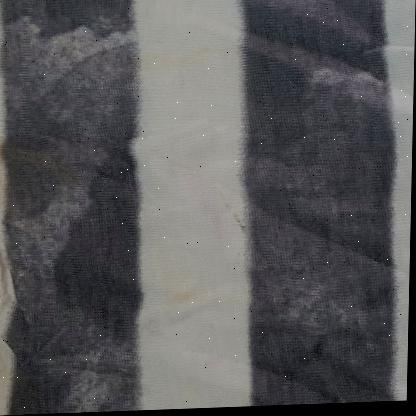spot: (0, 140, 72, 187), (156, 286, 210, 314), (220, 200, 246, 238)
